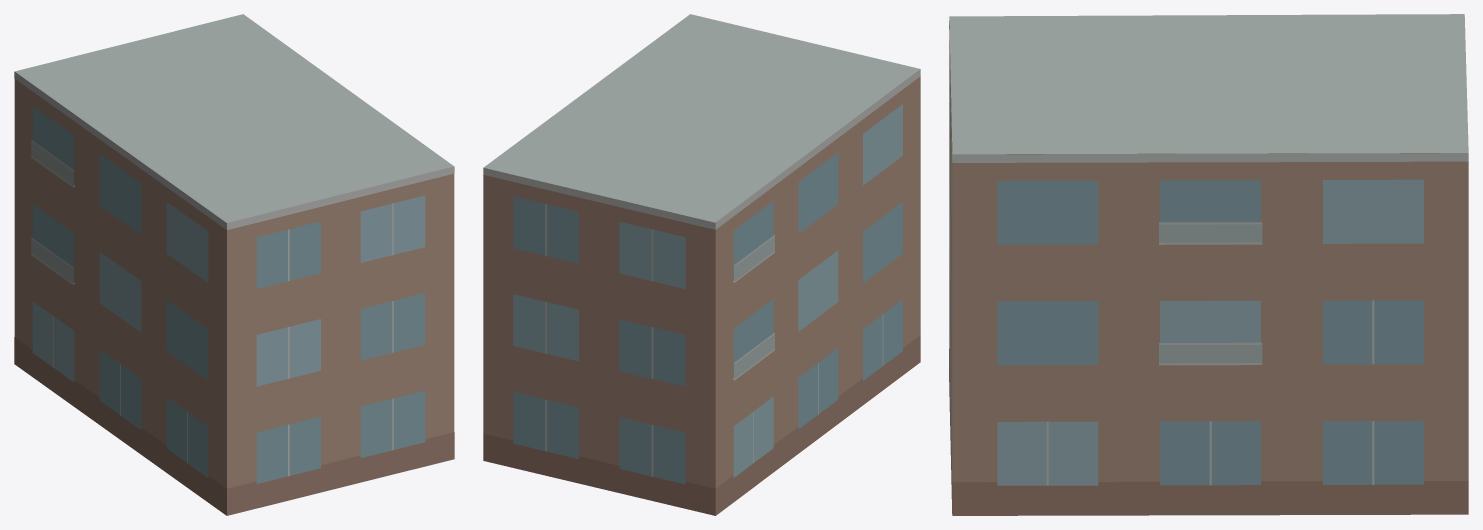
Rendered from survey-upis-33022323.glb.
The picture shows the model from 3 angles, left to right: view 1: azimuth 30°, elevation 25°; view 2: azimuth 150°, elevation 25°; view 3: azimuth 270°, elevation 25°; orthographic projection. The views are drawn at different scales.
Parts seen in each view (by area): view 1: survey-upis-33022323.tmp; view 2: survey-upis-33022323.tmp; view 3: survey-upis-33022323.tmp.
Part boxes in pixels (x1,y1,x2,y2): survey-upis-33022323.tmp: (14, 14, 454, 515); survey-upis-33022323.tmp: (483, 14, 920, 515); survey-upis-33022323.tmp: (949, 14, 1468, 515).
Size of the model in its own units: 8.44 by 10.1 by 13.16.
